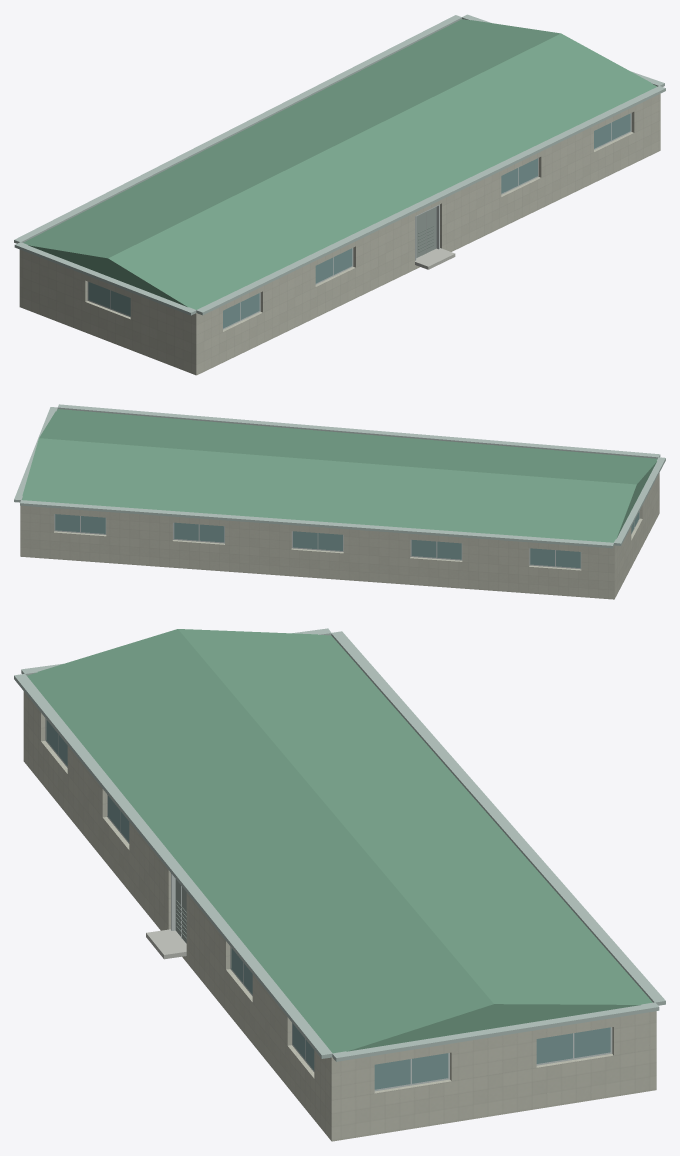
3 renders of one model, top to bottom at view 1: azimuth 30°, elevation 25°; view 2: azimuth 150°, elevation 25°; view 3: azimuth 270°, elevation 25°, orthographic. The views are drawn at different scales.
Parts seen in each view (by area): view 1: westworkshop__roof, westworkshop__wall, westworkshop__rib, westworkshop__glass, westworkshop__frame, westworkshop__door, westworkshop__threshold-entry; view 2: westworkshop__roof, westworkshop__wall, westworkshop__rib, westworkshop__glass, westworkshop__frame; view 3: westworkshop__roof, westworkshop__wall, westworkshop__rib, westworkshop__glass, westworkshop__frame, westworkshop__threshold-entry.
Part boxes in pixels (x1,y1,x2,y2): westworkshop__roof: (23, 19, 656, 309); westworkshop__wall: (19, 93, 660, 375); westworkshop__rib: (14, 14, 665, 315); westworkshop__glass: (88, 113, 630, 328); westworkshop__frame: (87, 113, 631, 329); westworkshop__door: (416, 207, 436, 257); westworkshop__threshold-entry: (415, 248, 455, 269); westworkshop__roof: (22, 409, 657, 542); westworkshop__wall: (20, 473, 659, 599); westworkshop__rib: (14, 404, 665, 548); westworkshop__glass: (55, 512, 639, 567); westworkshop__frame: (54, 510, 639, 569); westworkshop__roof: (27, 629, 652, 1053); westworkshop__wall: (23, 691, 656, 1141); westworkshop__rib: (14, 628, 665, 1061); westworkshop__glass: (46, 719, 610, 1089); westworkshop__frame: (45, 718, 612, 1091); westworkshop__threshold-entry: (146, 929, 186, 959).
Size of the model in its own units: 34.58 by 4.19 by 22.17.
8 materials, 1 textured.
